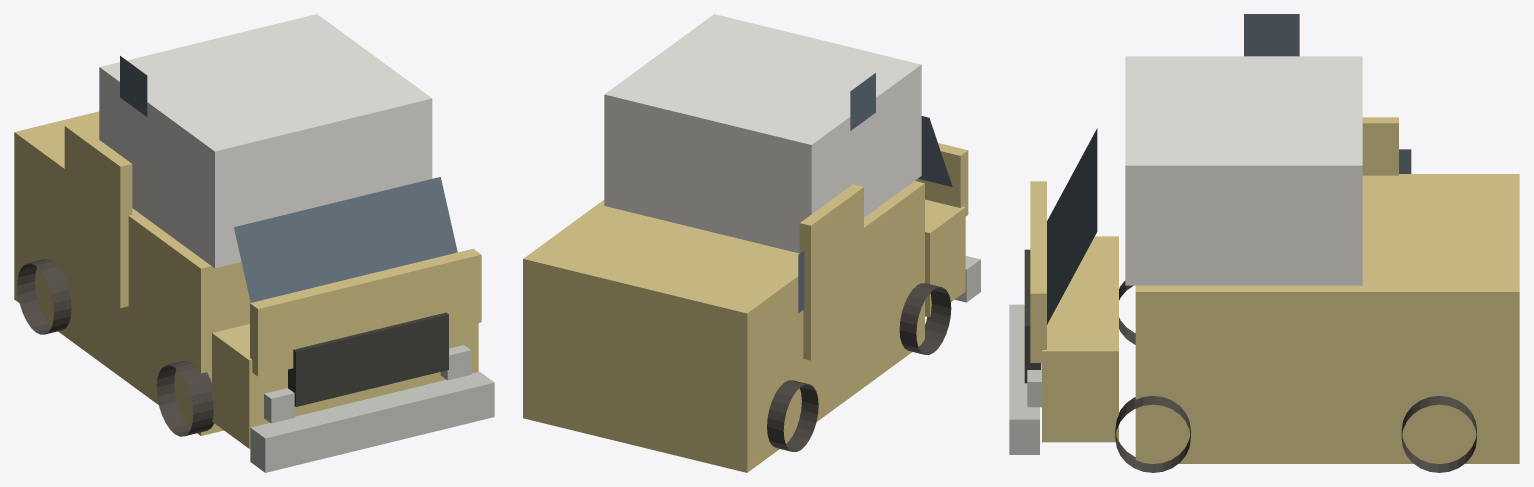
The model's file is econoline_camper.glb.
The picture shows the model from 3 angles, left to right: view 1: azimuth 30°, elevation 25°; view 2: azimuth 150°, elevation 25°; view 3: azimuth 270°, elevation 25°; orthographic projection. The views are drawn at different scales.
Parts seen in each view (by area): view 1: VanCamper_BodyTop, VanCamper_BodyLower, VanCamper_Windshield, VanCamper_CabFace, VanCamper_Bumper, VanCamper_Door, VanCamper_Grille, VanCamper_Hood, VanCamper_Wheel_FL, VanCamper_Wheel_RL, VanCamper_TopWindow, VanCamper_Light_L (+1 smaller); view 2: VanCamper_BodyLower, VanCamper_BodyTop, VanCamper_Door, VanCamper_Hood, VanCamper_Wheel_FL, VanCamper_Wheel_RL, VanCamper_CabFace, VanCamper_Windshield, VanCamper_TopWindow, VanCamper_Bumper; view 3: VanCamper_BodyLower, VanCamper_BodyTop, VanCamper_Hood, VanCamper_Windshield, VanCamper_Bumper, VanCamper_CabFace, VanCamper_TopWindow, VanCamper_Door, VanCamper_Wheel_FR, VanCamper_Wheel_RR, VanCamper_Grille, VanCamper_Light_R.
Boxes of the visible parts, bbox=[...] form: VanCamper_BodyTop: bbox=[99, 14, 432, 268]; VanCamper_BodyLower: bbox=[14, 111, 250, 435]; VanCamper_Windshield: bbox=[234, 177, 457, 302]; VanCamper_CabFace: bbox=[250, 248, 481, 376]; VanCamper_Bumper: bbox=[250, 371, 494, 472]; VanCamper_Door: bbox=[64, 123, 132, 308]; VanCamper_Grille: bbox=[288, 312, 448, 406]; VanCamper_Hood: bbox=[212, 323, 478, 448]; VanCamper_Wheel_FL: bbox=[156, 361, 213, 436]; VanCamper_Wheel_RL: bbox=[17, 259, 71, 334]; VanCamper_TopWindow: bbox=[120, 56, 147, 116]; VanCamper_Light_L: bbox=[264, 388, 294, 423]; VanCamper_BodyLower: bbox=[523, 181, 924, 472]; VanCamper_BodyTop: bbox=[604, 14, 921, 253]; VanCamper_Door: bbox=[799, 184, 863, 360]; VanCamper_Hood: bbox=[925, 199, 965, 317]; VanCamper_Wheel_FL: bbox=[899, 283, 951, 354]; VanCamper_Wheel_RL: bbox=[767, 380, 818, 451]; VanCamper_CabFace: bbox=[915, 143, 968, 216]; VanCamper_Windshield: bbox=[918, 116, 952, 186]; VanCamper_TopWindow: bbox=[850, 73, 875, 130]; VanCamper_Bumper: bbox=[955, 256, 980, 302]; VanCamper_BodyLower: bbox=[1135, 174, 1519, 463]; VanCamper_BodyTop: bbox=[1125, 56, 1362, 285]; VanCamper_Hood: bbox=[1042, 236, 1118, 442]; VanCamper_Windshield: bbox=[1047, 128, 1097, 324]; VanCamper_Bumper: bbox=[1009, 304, 1039, 454]; VanCamper_CabFace: bbox=[1030, 181, 1046, 362]; VanCamper_TopWindow: bbox=[1244, 14, 1299, 56]; VanCamper_Door: bbox=[1362, 117, 1398, 175]; VanCamper_Wheel_FR: bbox=[1115, 396, 1190, 472]; VanCamper_Wheel_RR: bbox=[1401, 396, 1476, 472]; VanCamper_Grille: bbox=[1024, 249, 1041, 383]; VanCamper_Light_R: bbox=[1027, 370, 1041, 407].
Bounding box in the file's own units: 2.3 × 2.62 × 3.65.
